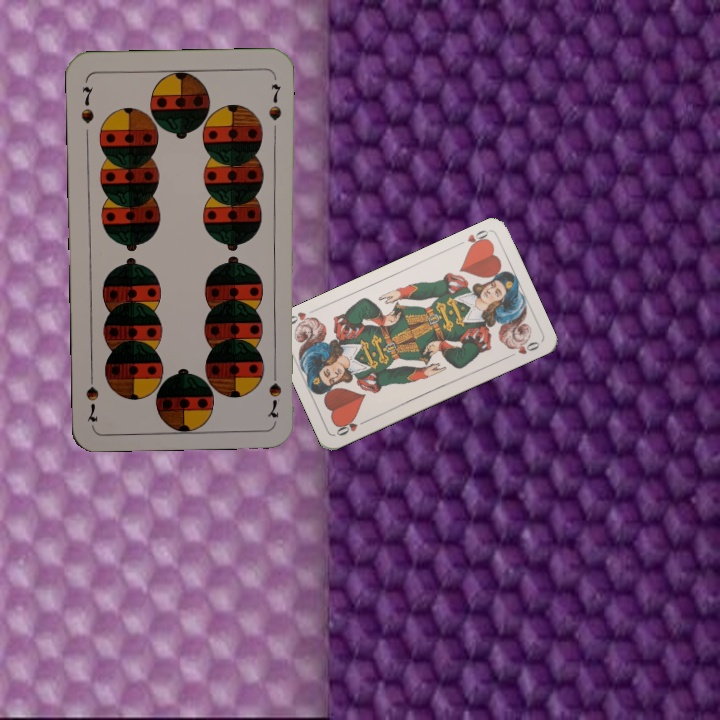HO: (453, 226, 492, 252), (332, 415, 370, 438)
S7: (264, 363, 284, 420), (77, 82, 96, 126)
